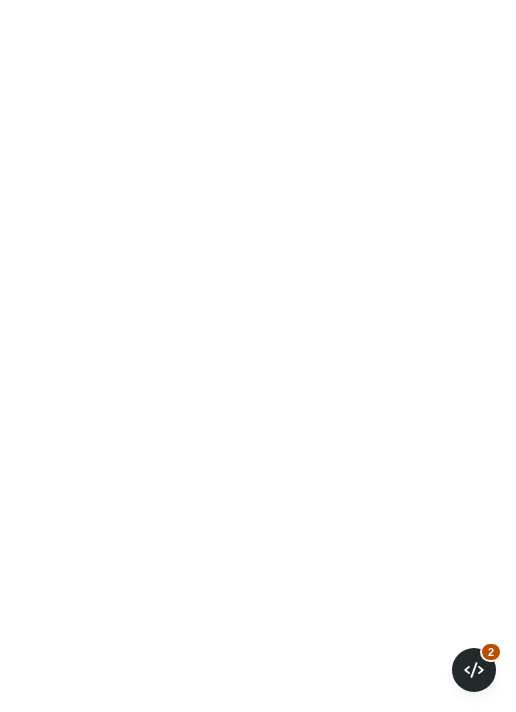
Test: Developer tools › opens the issues, filters them and expands one
Step 1. Click the button named "Developer tools" → (474, 670), box [452,648,496,692]
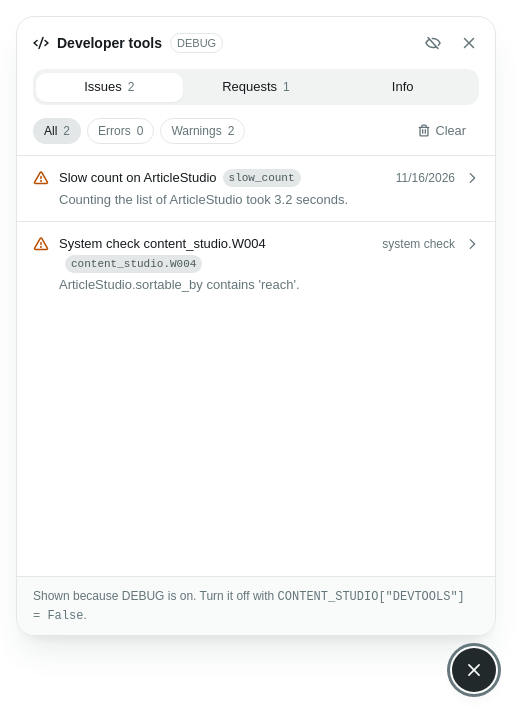
Result: the text "Slow count on ArticleStudio" is shown at [59,170,216,185]
Result: the text "system check" is shown at [382,235,455,253]
Step 2. Click the button "Errors 0" → (121, 131), box [87,118,154,144]
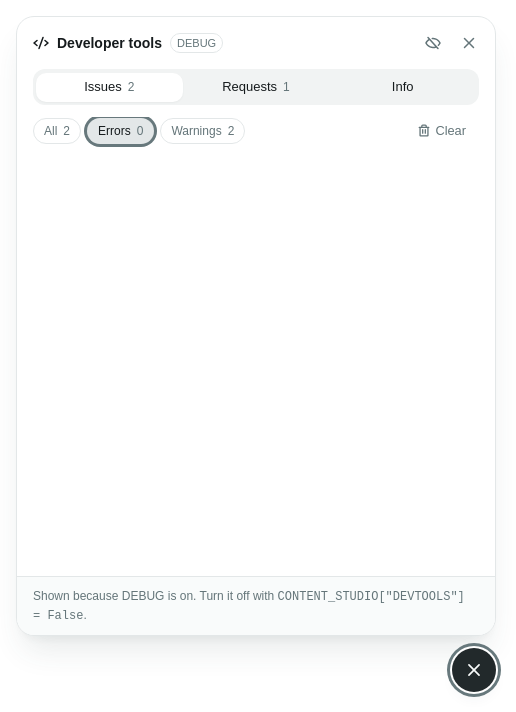
Result: the button "Slow count on ArticleStudio" is gone
Step 3. Click the button "All 2" → (57, 131), box [33,118,81,144]
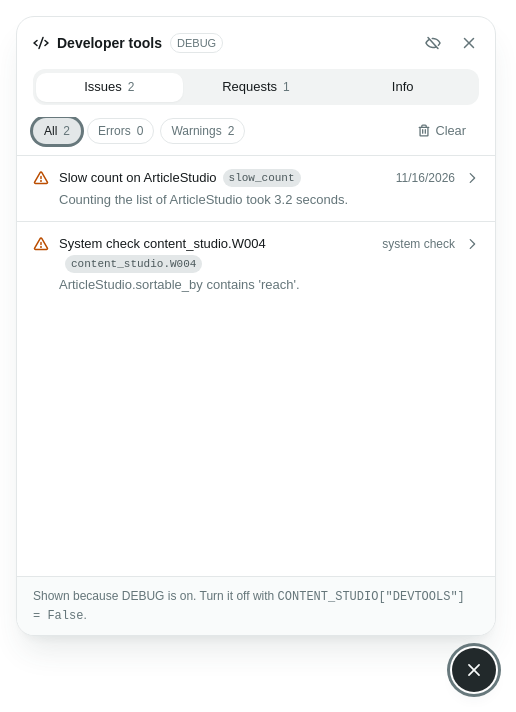
Step 4. Click the button "Slow count on ArticleStudio" → (256, 188), box [17,156,495,221]
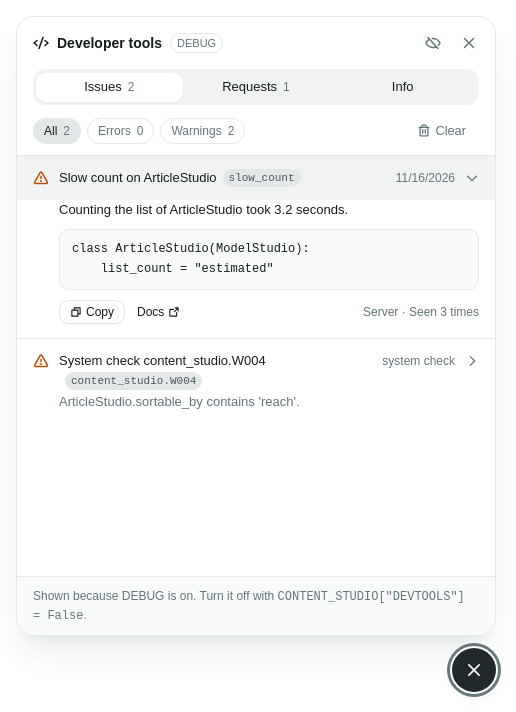
Result: the text "class ArticleStudio(ModelStudio): list_count = \"estimated\"" is shown at [59,229,479,290]
Result: the text "Server · Seen 3 times" is shown at [363,303,479,321]
